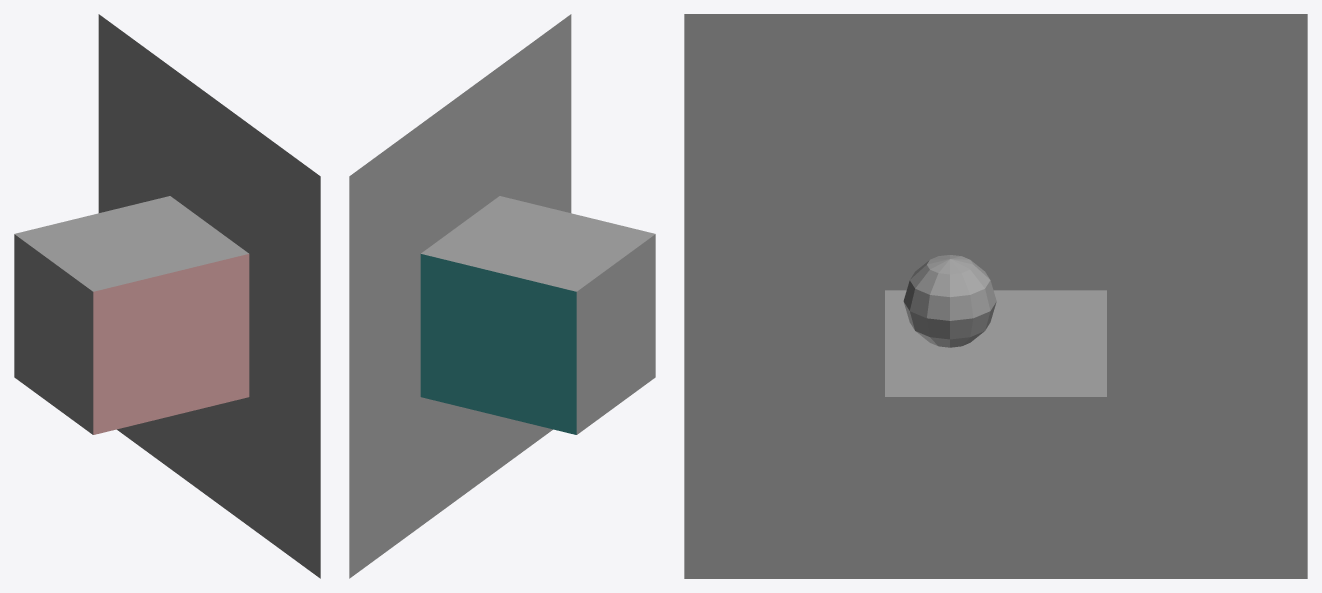
File: showBox.obj
3 renders of one model, left to right at view 1: azimuth 30°, elevation 25°; view 2: azimuth 150°, elevation 25°; view 3: azimuth 270°, elevation 25°, orthographic. The views are drawn at different scales.
Visible parts, largest first — view 1: Plane; view 2: Plane; view 3: Plane.
Part boxes in pixels (x1,y1,x2,y2): Plane: (14,14,320,578); Plane: (349,14,655,578); Plane: (684,14,1307,578).
Size of the model in its own units: 2.28 by 5.62 by 5.62.
